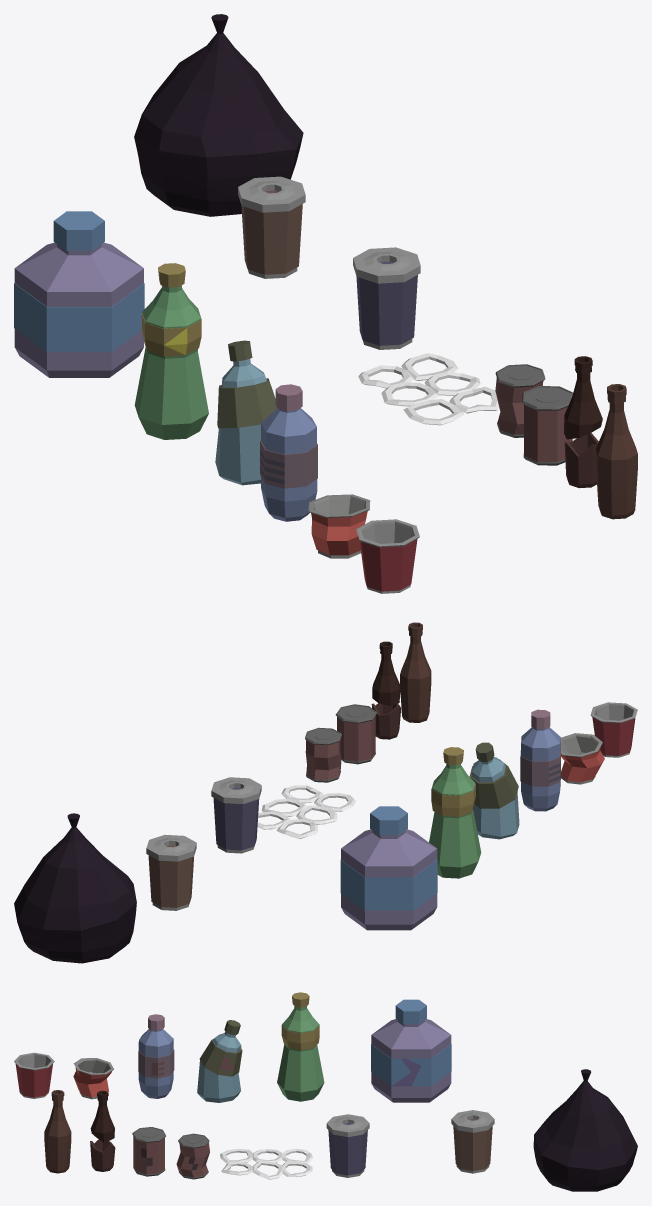
File: Trash_Models_Collection.fbx
3 views of the same model, one above another, from view 1: azimuth 30°, elevation 25°; view 2: azimuth 150°, elevation 25°; view 3: azimuth 270°, elevation 25° (orthographic). The views are drawn at different scales.
Visible parts, largest first — view 1: TrashBag, BigPlasticBottle, MediumPlasticBottle, PlasticBottle, BentPlasticBottle, LidCup2, LidCUp1, GlassBottle, RingThing, PlasticCup, Can, BentPlasticCup (+3 smaller); view 2: TrashBag, BigPlasticBottle, MediumPlasticBottle, BentPlasticBottle, PlasticBottle, LidCup2, LidCUp1, GlassBottle, RingThing, Can, PlasticCup, BentPlasticCup (+3 smaller); view 3: TrashBag, BigPlasticBottle, MediumPlasticBottle, BentPlasticBottle, PlasticBottle, LidCup2, LidCUp1, GlassBottle, RingThing, Can, PlasticCup, BentCan (+3 smaller).
Part boxes in pixels (left/top/right/bottom): TrashBag: left=134, top=14, right=303, bottom=216; BigPlasticBottle: left=14, top=211, right=144, bottom=377; MediumPlasticBottle: left=134, top=263, right=208, bottom=439; PlasticBottle: left=260, top=384, right=317, bottom=521; BentPlasticBottle: left=215, top=340, right=277, bottom=485; LidCup2: left=353, top=247, right=420, bottom=349; LidCUp1: left=238, top=176, right=305, bottom=278; GlassBottle: left=595, top=384, right=637, bottom=519; RingThing: left=358, top=353, right=499, bottom=425; PlasticCup: left=356, top=519, right=419, bottom=591; Can: left=522, top=386, right=573, bottom=465; BentPlasticCup: left=308, top=494, right=370, bottom=558; TrashBag: left=14, top=813, right=136, bottom=963; BigPlasticBottle: left=340, top=806, right=437, bottom=930; MediumPlasticBottle: left=429, top=747, right=481, bottom=878; BentPlasticBottle: left=469, top=742, right=519, bottom=839; PlasticBottle: left=520, top=709, right=560, bottom=811; LidCup2: left=211, top=777, right=261, bottom=853; LidCUp1: left=146, top=834, right=196, bottom=910; GlassBottle: left=400, top=622, right=431, bottom=722; RingThing: left=257, top=785, right=355, bottom=838; Can: left=335, top=704, right=376, bottom=764; PlasticCup: left=590, top=702, right=637, bottom=755; BentPlasticCup: left=560, top=733, right=604, bottom=784; TrashBag: left=533, top=1069, right=637, bottom=1191; BigPlasticBottle: left=371, top=999, right=451, bottom=1102; MediumPlasticBottle: left=277, top=992, right=324, bottom=1101; BentPlasticBottle: left=197, top=1020, right=242, bottom=1102; PlasticBottle: left=138, top=1014, right=174, bottom=1098; LidCup2: left=326, top=1114, right=369, bottom=1177; LidCUp1: left=451, top=1110, right=494, bottom=1173; GlassBottle: left=44, top=1090, right=71, bottom=1173; RingThing: left=220, top=1148, right=312, bottom=1179; Can: left=132, top=1127, right=165, bottom=1176; PlasticCup: left=14, top=1052, right=54, bottom=1097; BentCan: left=176, top=1133, right=209, bottom=1179.
Size of the model in its own units: 445 by 187 by 974.
